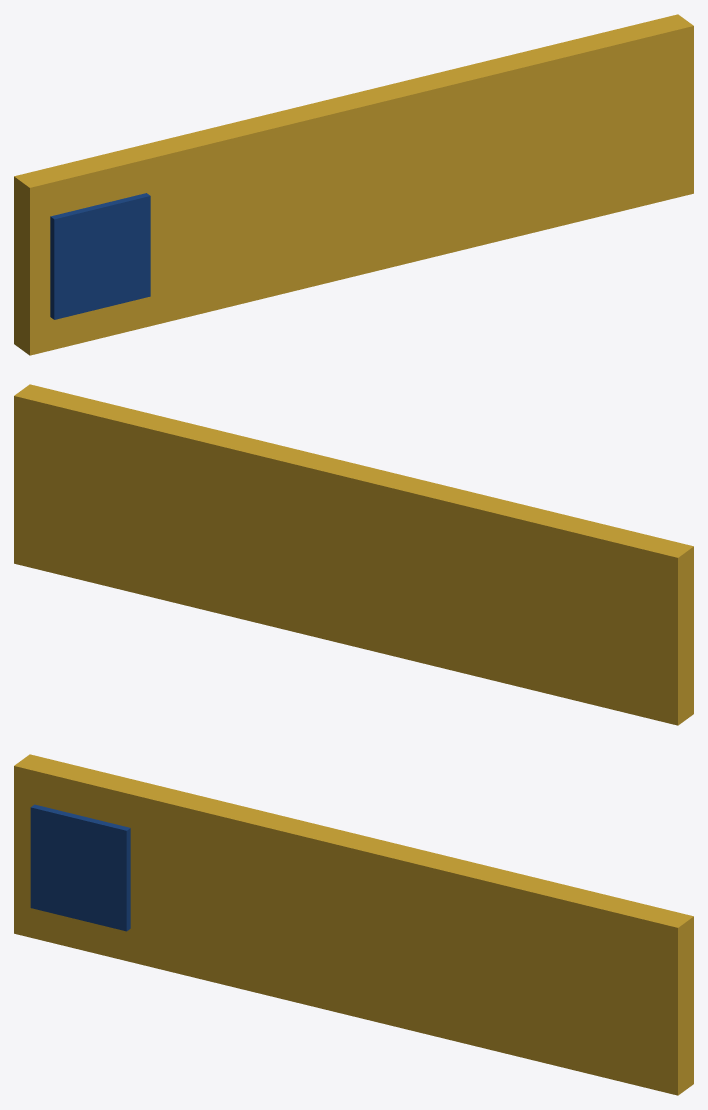
Rendered from bang_gui_xe_32.glb.
3 renders of one model, top to bottom at view 1: azimuth 30°, elevation 25°; view 2: azimuth 150°, elevation 25°; view 3: azimuth 330°, elevation 25°, orthographic.
Parts seen in each view (by area): view 1: bang_gui_xe_32; view 2: bang_gui_xe_32; view 3: bang_gui_xe_32.
Boxes of the visible parts, box(x1,y1,x2,y2) form: bang_gui_xe_32: box(14, 14, 693, 355); bang_gui_xe_32: box(14, 384, 693, 725); bang_gui_xe_32: box(14, 754, 693, 1095).
Size of the model in its own units: 2.9 by 0.7 by 0.15.
